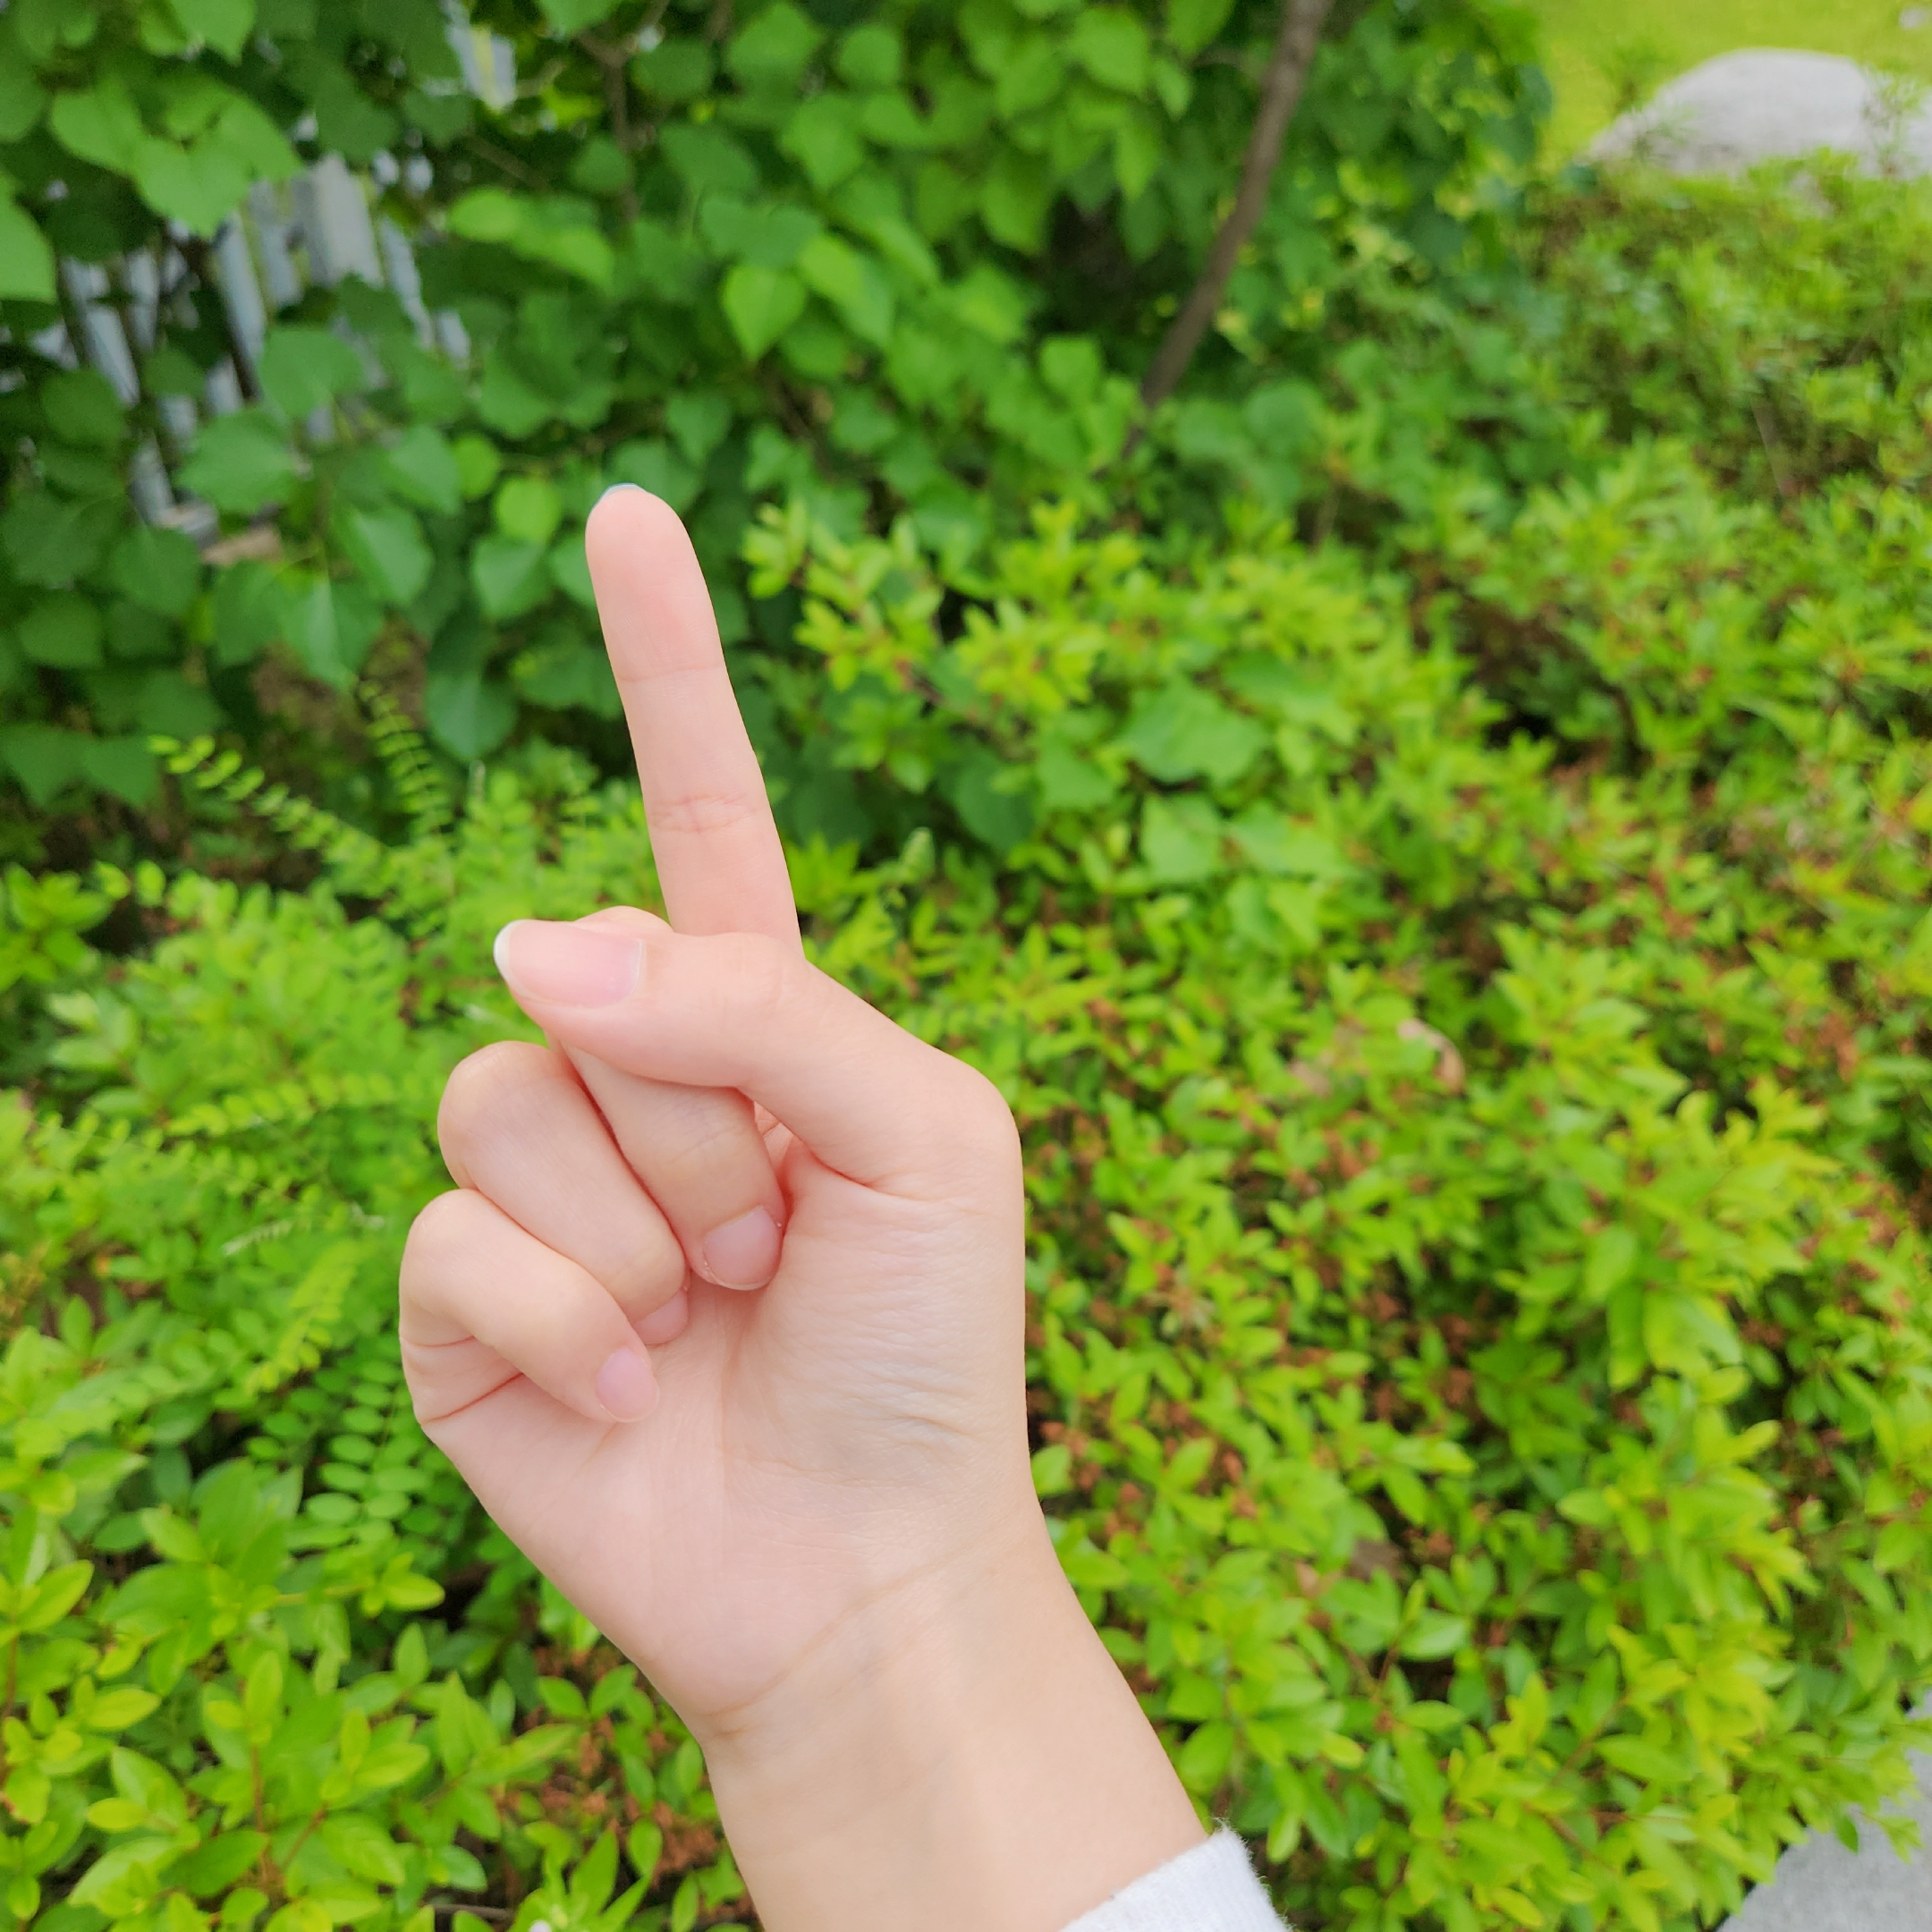what: (393, 479, 1035, 1686)
